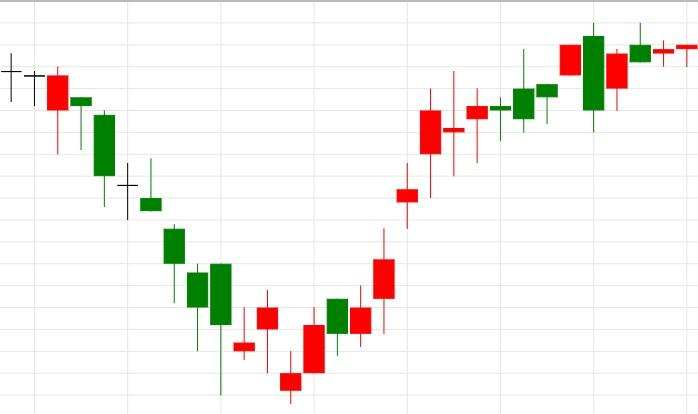bearish_engulfing_fall: (513, 22, 604, 133)
morning_star_rise: (71, 98, 278, 395)
